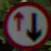Two way: (9, 5, 43, 43)
